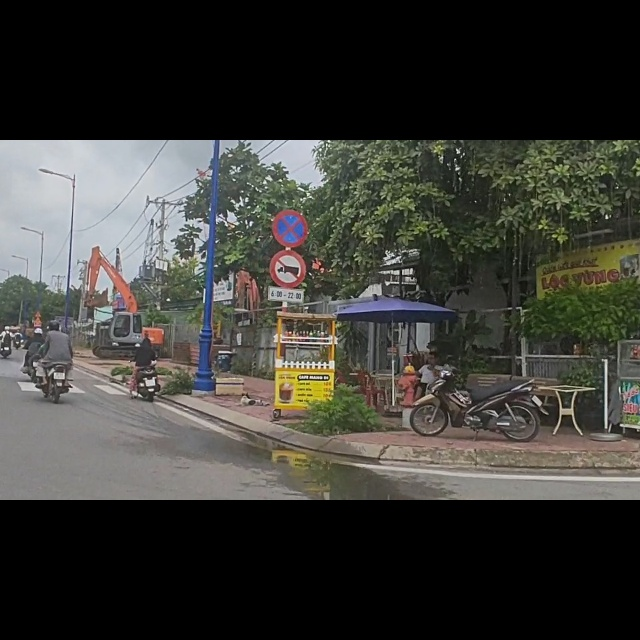bien_cam: (273, 122, 309, 191), (269, 196, 306, 263)
